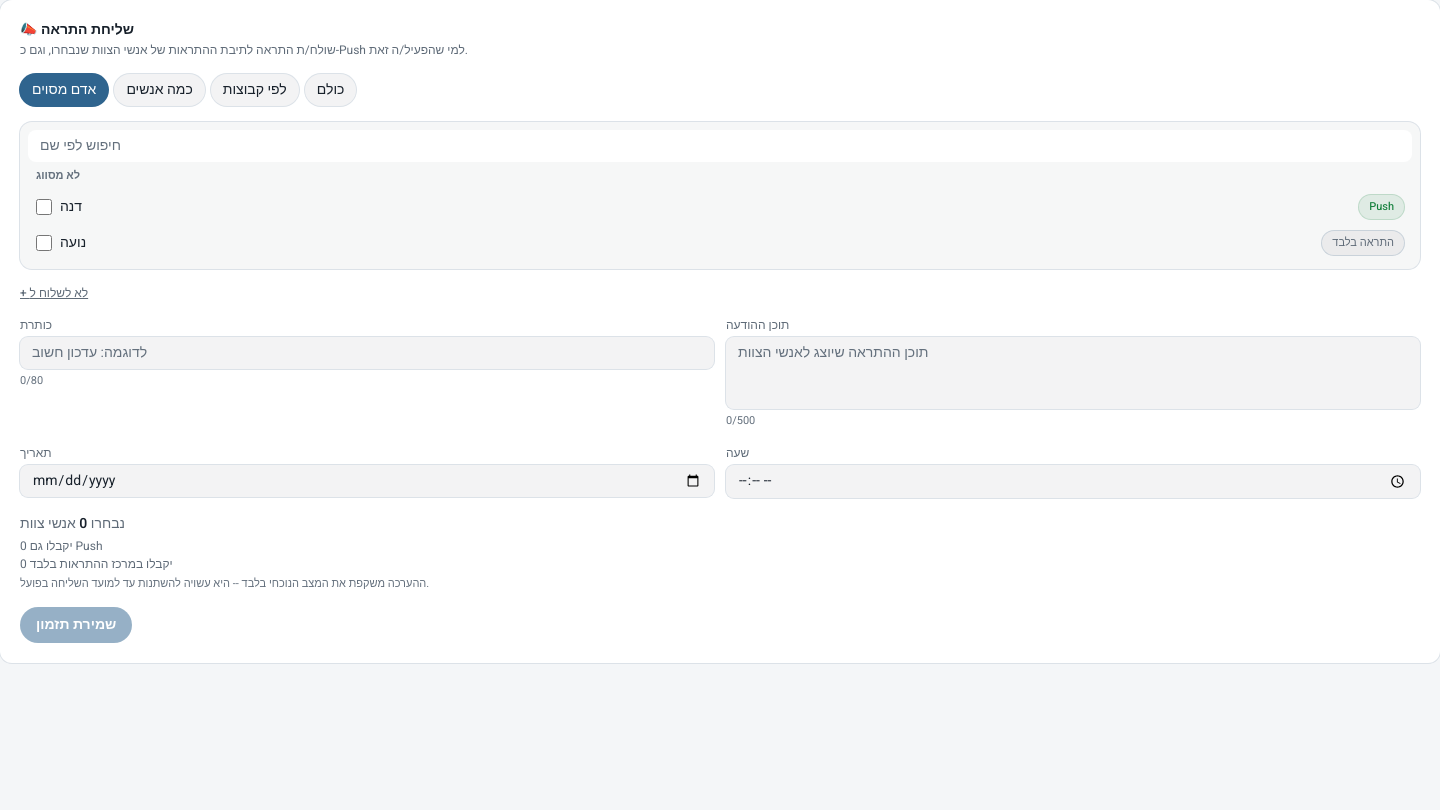
Test: ManagerBroadcastComposer -- mode is fixed by the parent, no internal 'מתי לשלוח' selector › mode='schedule' disables submit until both date and time are filled
The width and height of the screenshot is (1440, 810).
Click the text "דנה" at (71, 206), box [60,196,82,216]
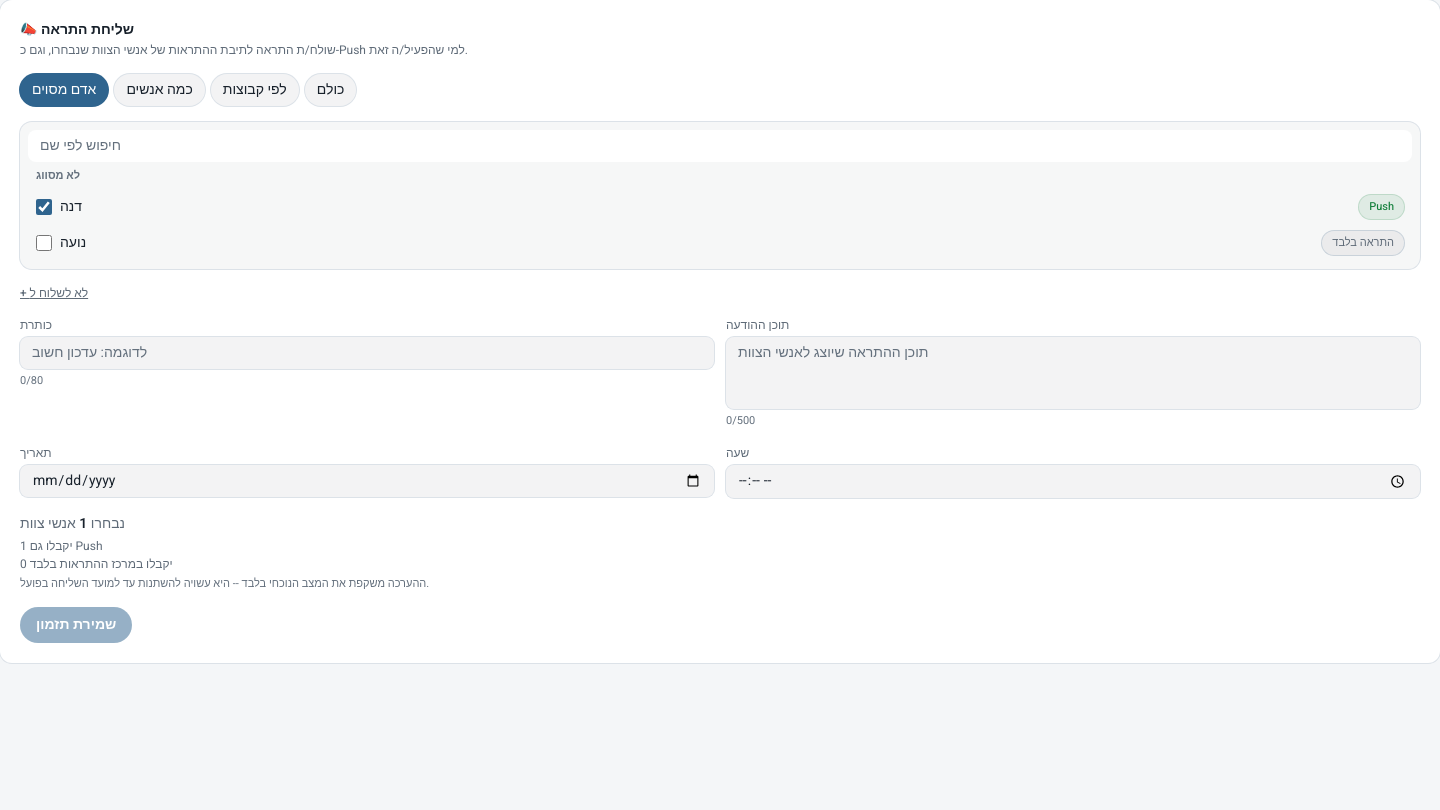
Type "כותרת" into the field with placeholder "לדוגמה: עדכון חשוב" at (367, 352), box [20,336,714,368]
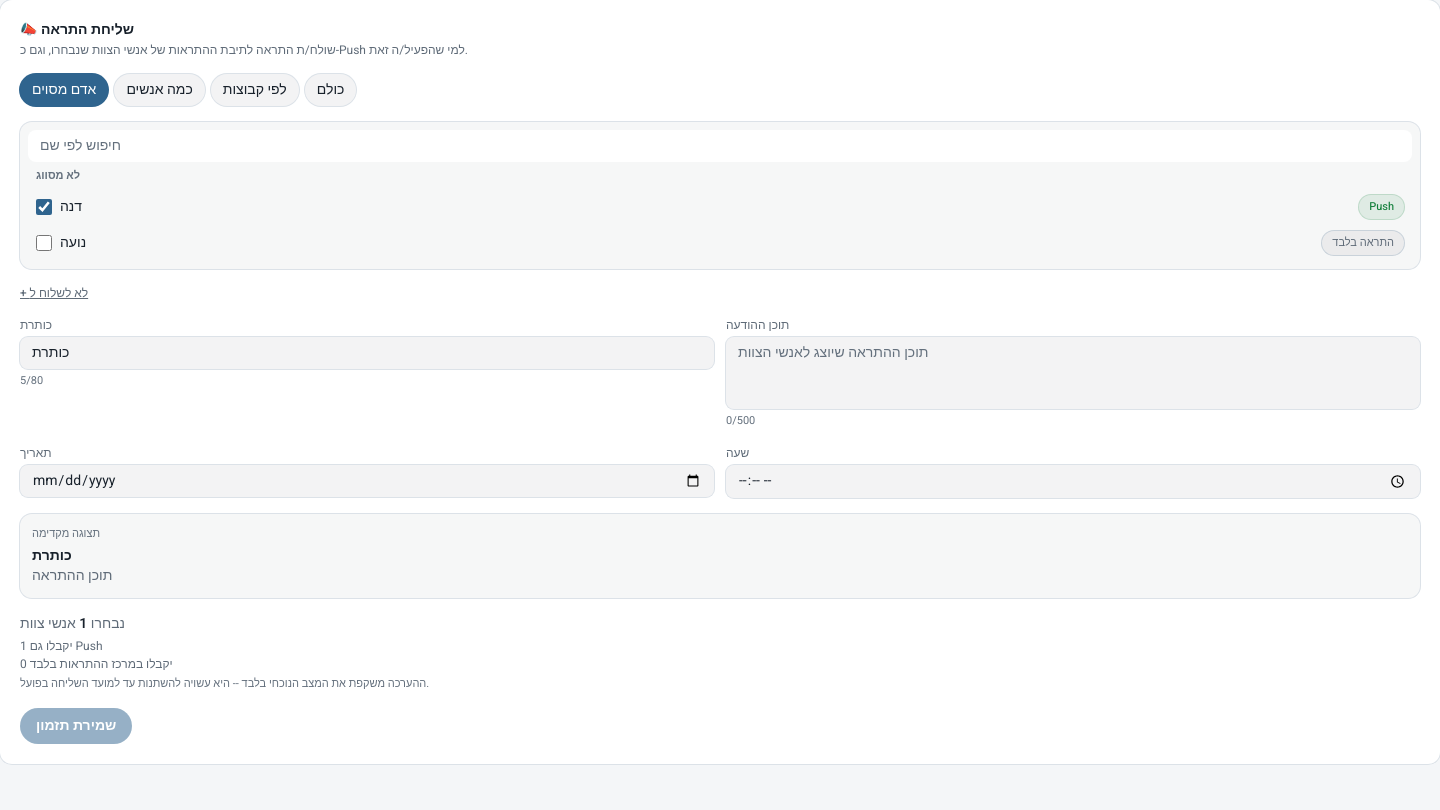
Type "תוכן" into the text box with placeholder "תוכן ההתראה שיוצג לאנשי הצוות" at (1073, 372), box [726,336,1420,408]
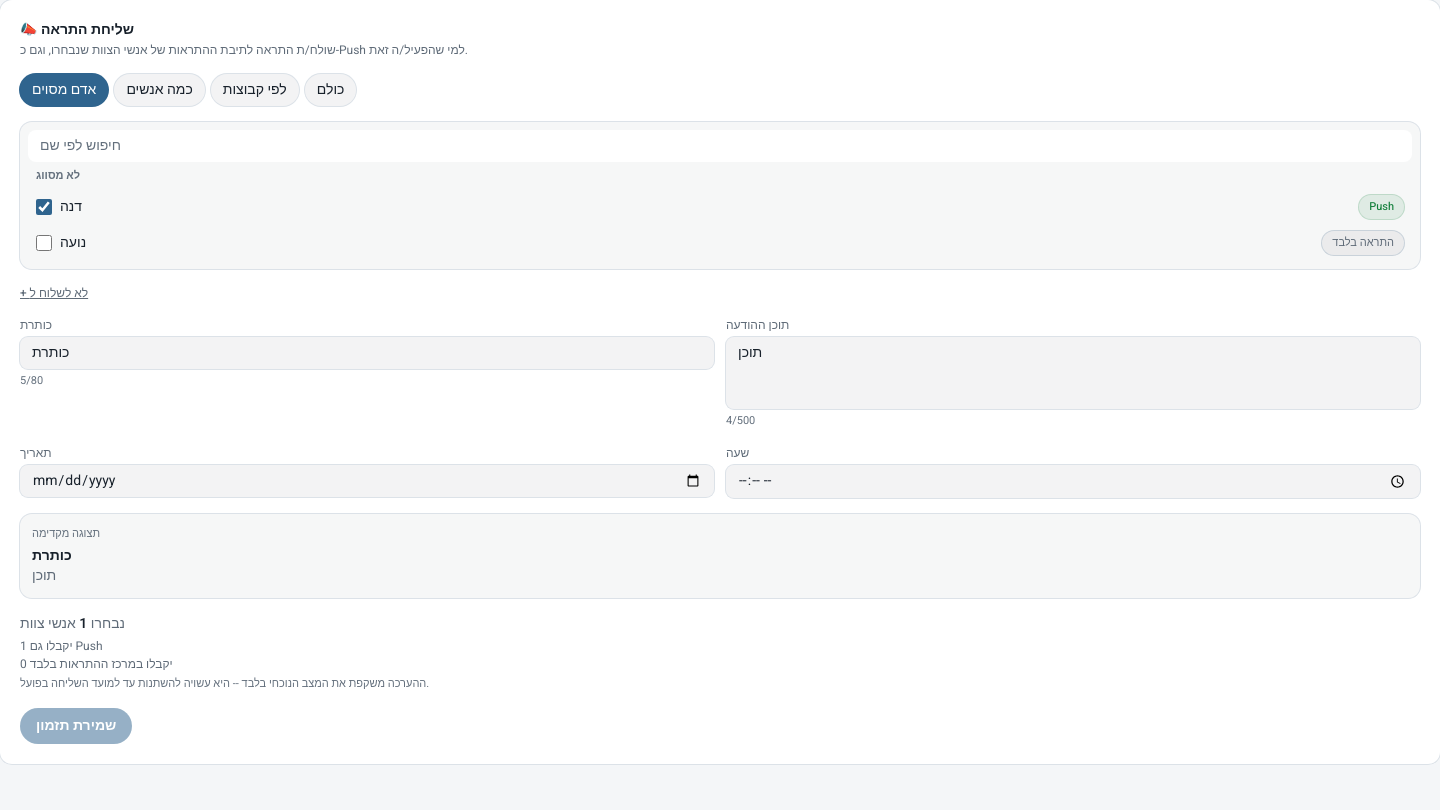
Expected: the button "שמירת תזמון" is disabled, [20,708,132,744]
Type "2026-08-23" into the date field named "תאריך השליחה" at (367, 481), box [20,465,714,497]
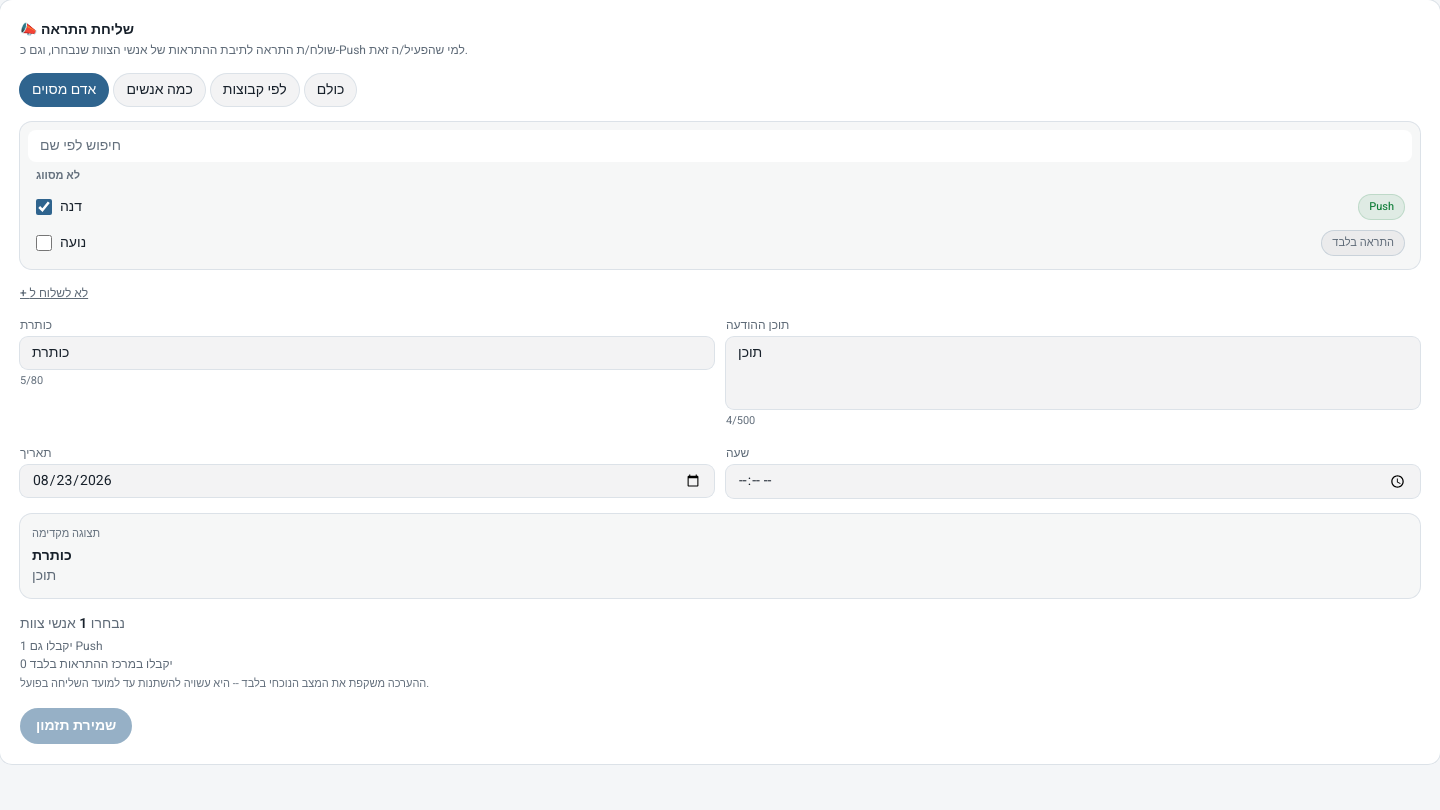
Expected: the button "שמירת תזמון" is disabled, [20,708,132,744]
Type "20:00" into the time field named "שעת השליחה" at (1073, 481), box [726,465,1420,498]
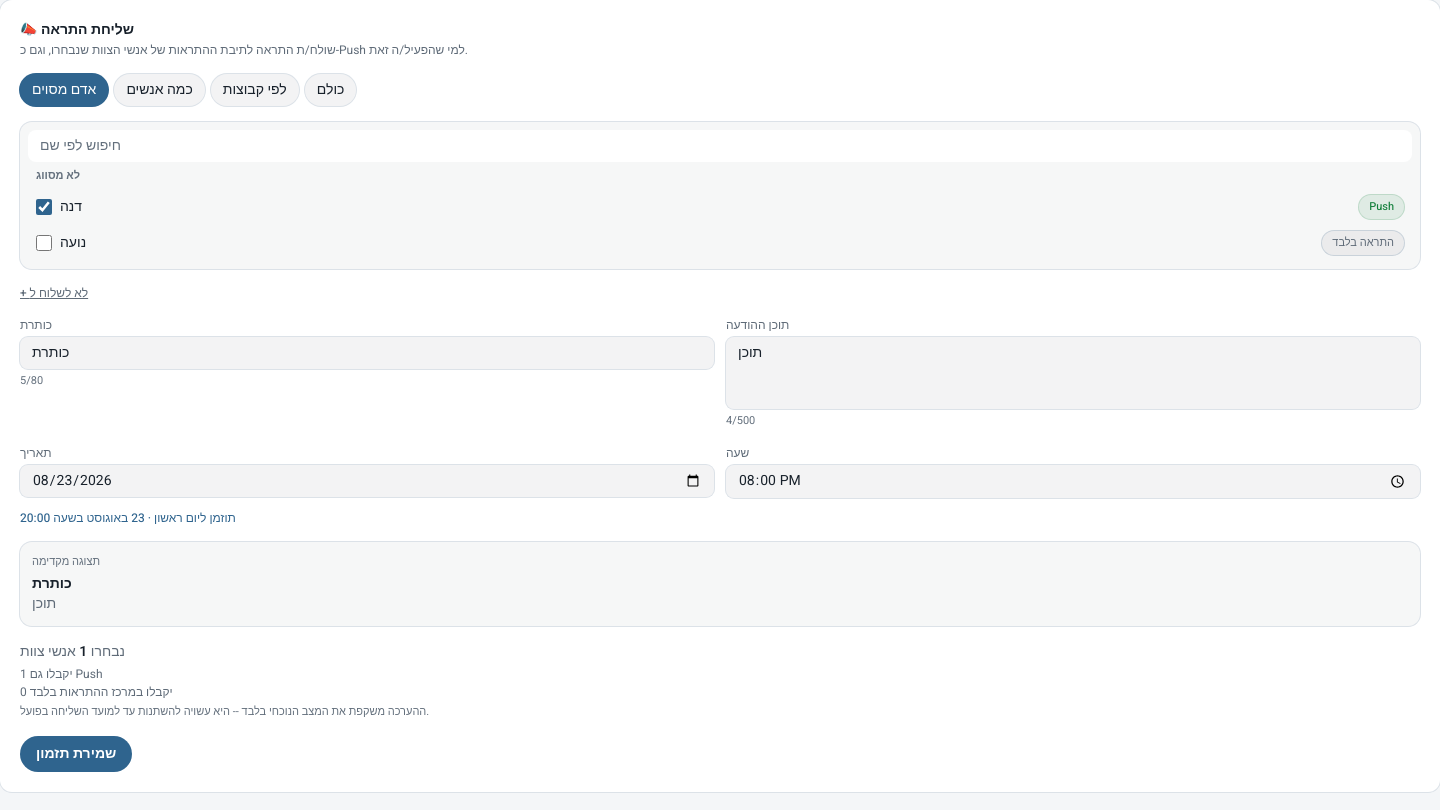
Expected: the button "שמירת תזמון" is enabled, [20,736,132,772]
Expected: the text "תוזמן ל" is shown, [200,509,236,527]
